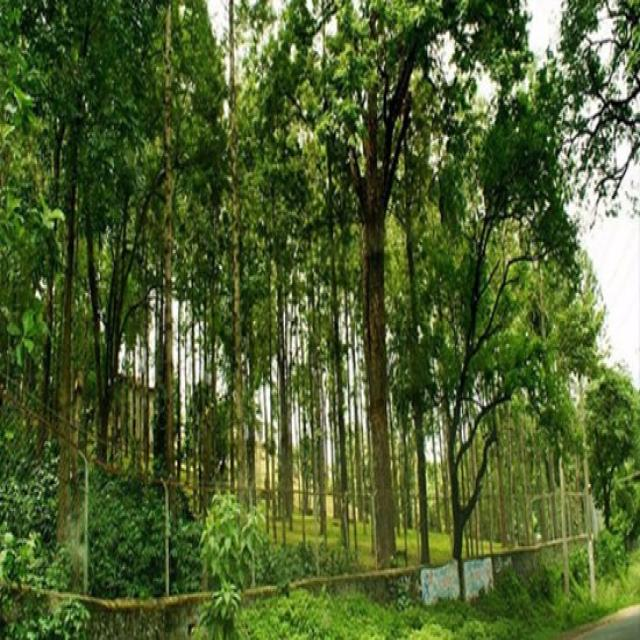Medicinal-Sandalwood: (0, 0, 605, 507)
